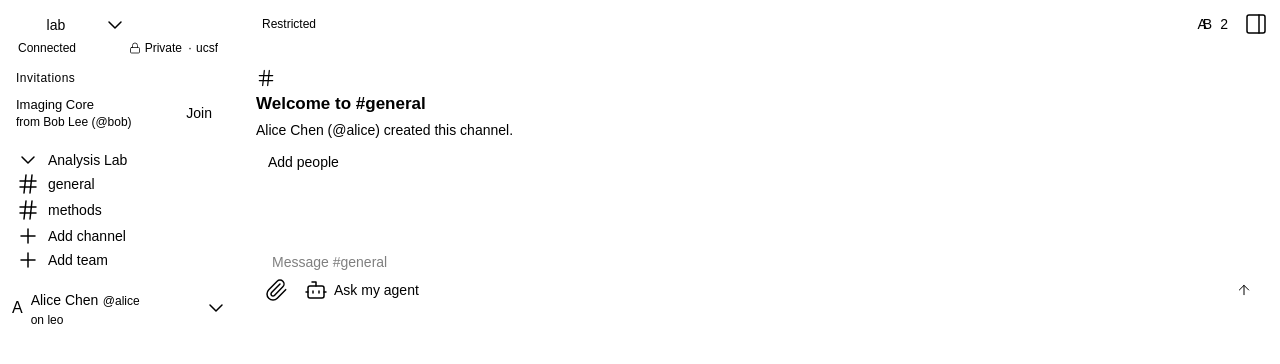
it: @agent in the composer (OW-10) › says what the agent may do on the server: full access as the person
The image size is (1280, 364).
Type "@agent rerun the alignment" into the text box labelled "Message #general". click: (762, 262)
box: [272,246,1252,278]
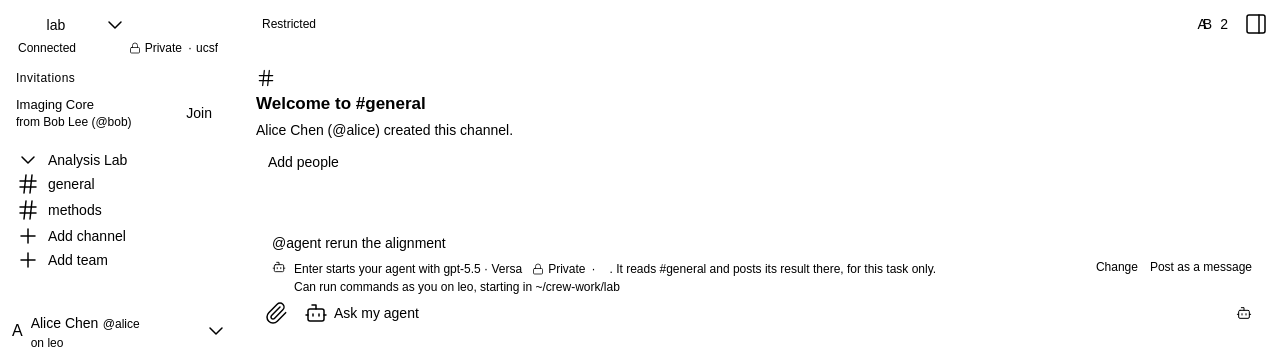
Expected: the element with class "crew-compose-agent" is shown, [272,259,1252,301]
Expected: the element with class "crew-compose-agent" shows "Can run commands as you on leo, starting in ~/crew-work/lab", [294,280,620,294]
